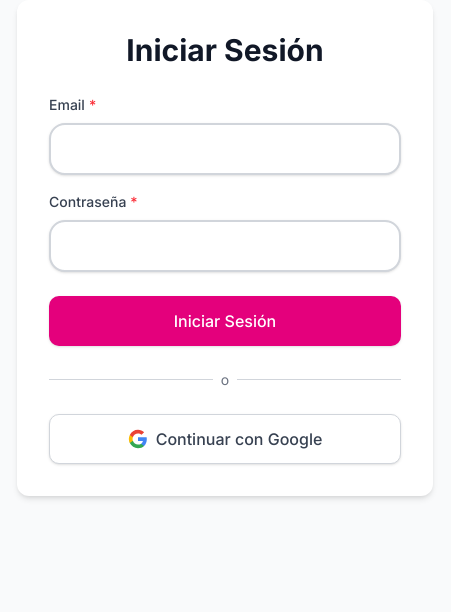
Test case: LoginForm Integration Tests › Email/Password Authentication Flow › should handle missing user role scenario
The width and height of the screenshot is (451, 612).
Step 1. Type "test@example.com" into the field labelled "Email*" → [225, 148], box [49, 122, 401, 174]
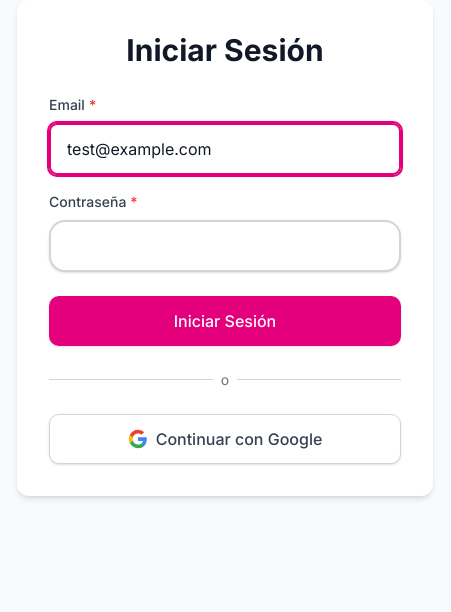
Step 2. Type "password123" into the password field labelled "Contraseña*" → [225, 246], box [49, 220, 401, 272]
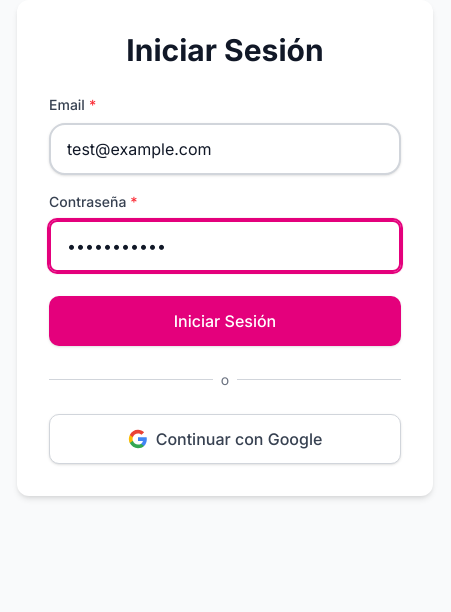
Step 3. Click the button "Iniciar Sesión" → [225, 320], box [49, 296, 401, 346]
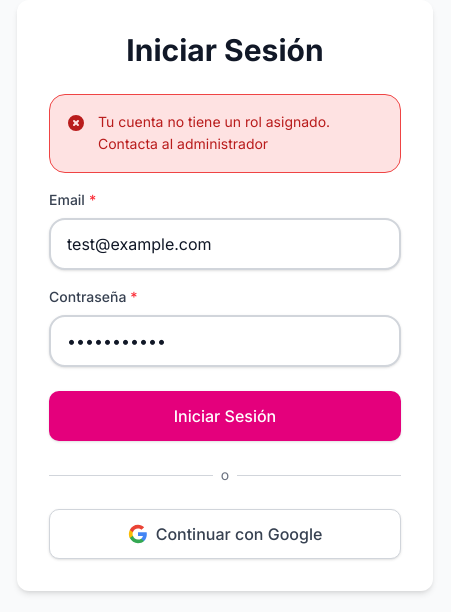
Result: the text "Tu cuenta no tiene un rol asignado" is shown at [98, 112, 330, 152]
